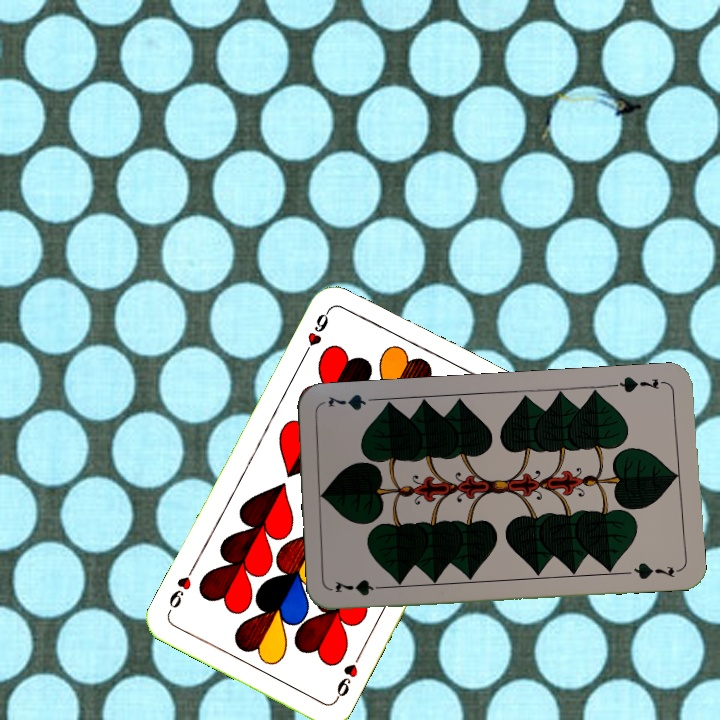G7: (331, 576, 390, 598), (610, 373, 669, 395)
H9: (299, 305, 333, 360), (331, 649, 364, 704)
